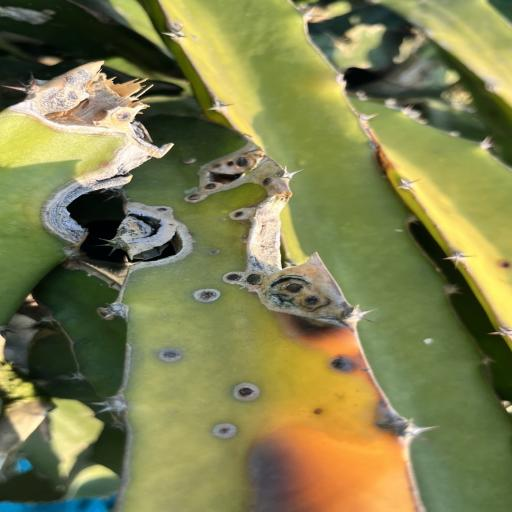stemcanker: (312, 400, 334, 420), (208, 207, 230, 227), (205, 246, 226, 259), (95, 159, 119, 170)
